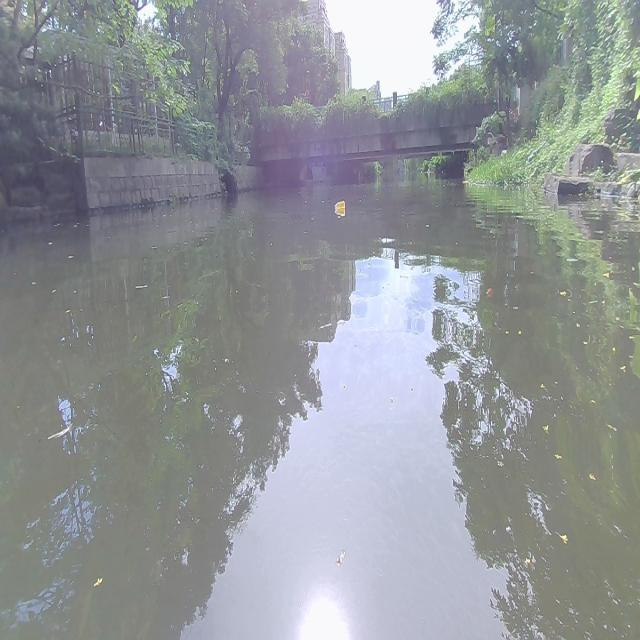bottle: (333, 201, 345, 210)
